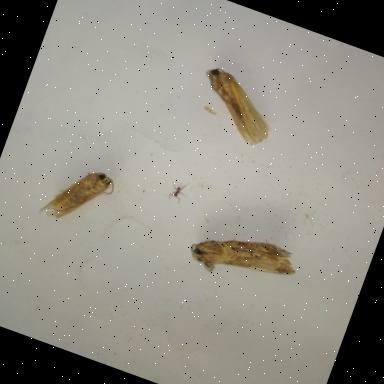abw: (186, 219, 302, 302), (187, 64, 285, 152), (38, 156, 122, 238)
